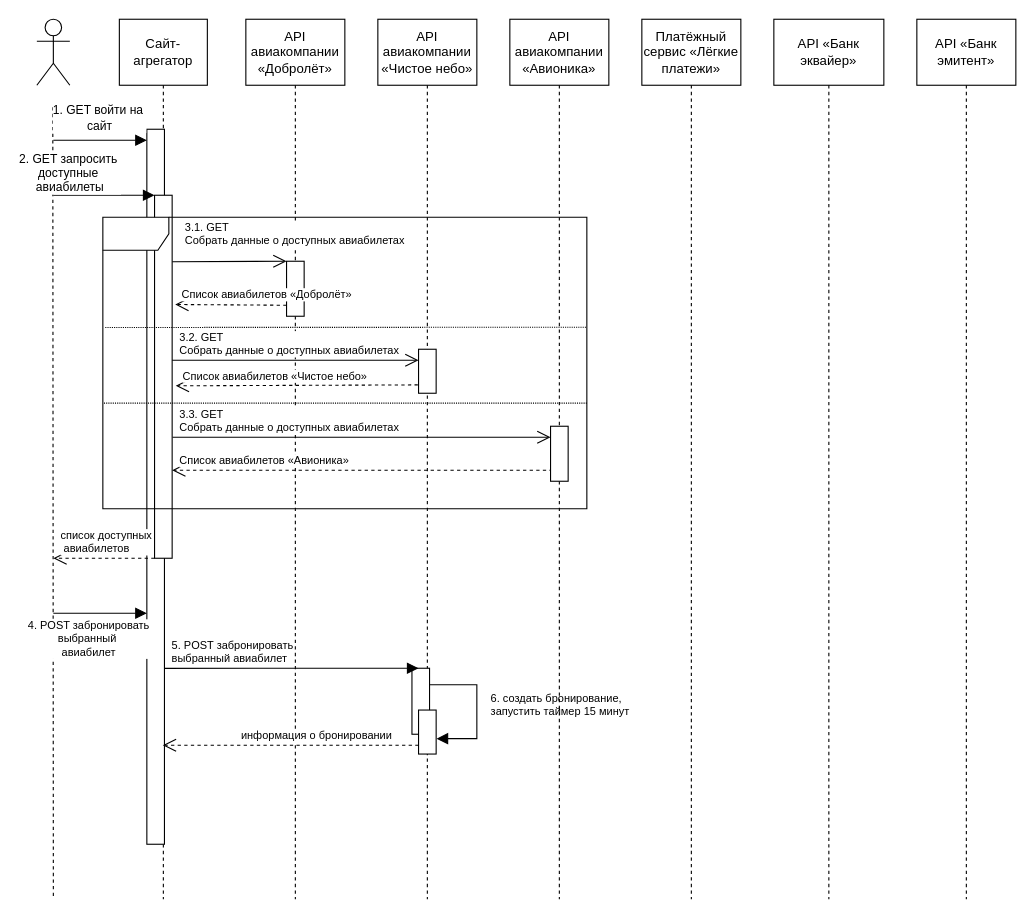
Image size: 1035x920. Some labels were removed from this diagram. The shapes that lost their labels are listed below. From the top down, each one's box as (x1, y1, x2, y2) in pixels, then its label:
(36, 18, 70, 85): Клиент
(102, 216, 587, 509): par
